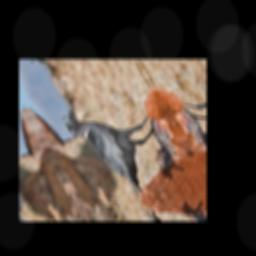Crow: (58, 90, 187, 207)
